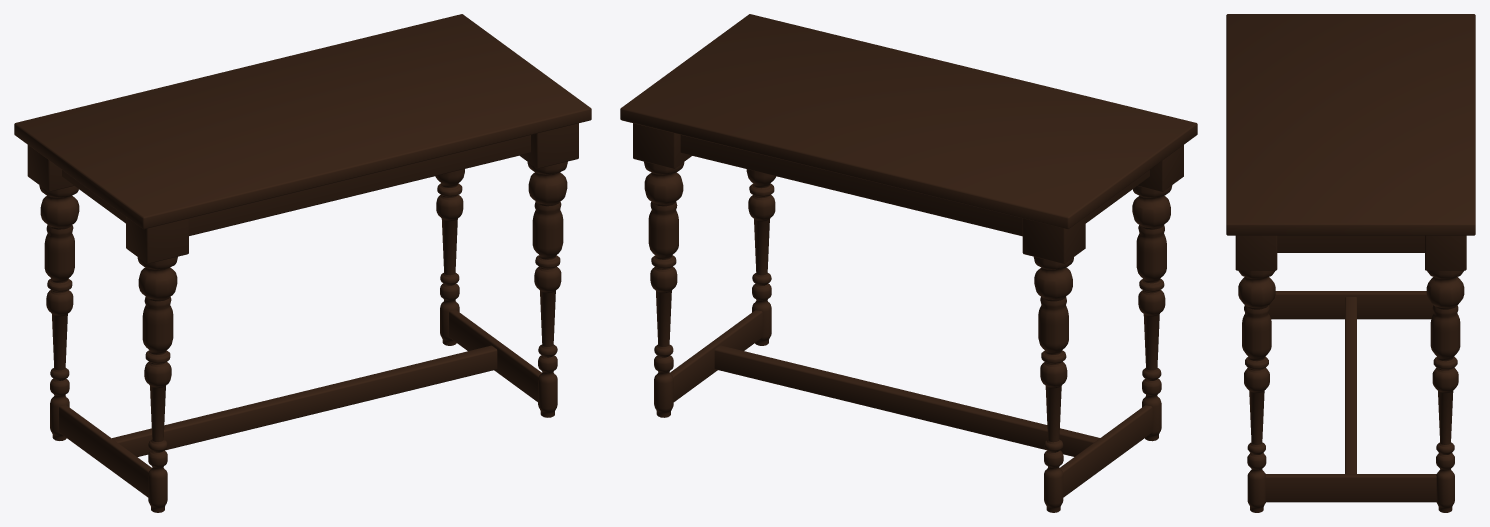
The picture shows the model from 3 angles, left to right: view 1: azimuth 30°, elevation 25°; view 2: azimuth 150°, elevation 25°; view 3: azimuth 270°, elevation 25°; orthographic projection. The views are drawn at different scales.
Visible parts, largest first — view 1: Table_Fancy_01; view 2: Table_Fancy_01; view 3: Table_Fancy_01.
Part boxes in pixels (box(x1,y1,x2,y2)): Table_Fancy_01: box(14, 14, 591, 512); Table_Fancy_01: box(620, 14, 1197, 512); Table_Fancy_01: box(1226, 14, 1475, 512).
Size of what is drawn, in the model's own units: 1.41 by 0.9389 by 0.7071.
